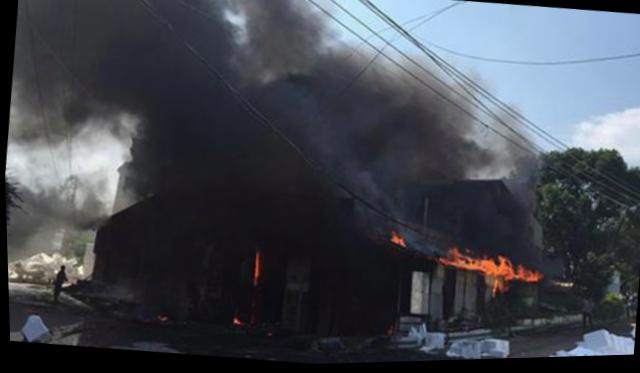fire: (445, 253, 489, 272), (511, 262, 536, 282), (490, 255, 510, 278), (488, 277, 504, 296), (386, 232, 401, 246)
